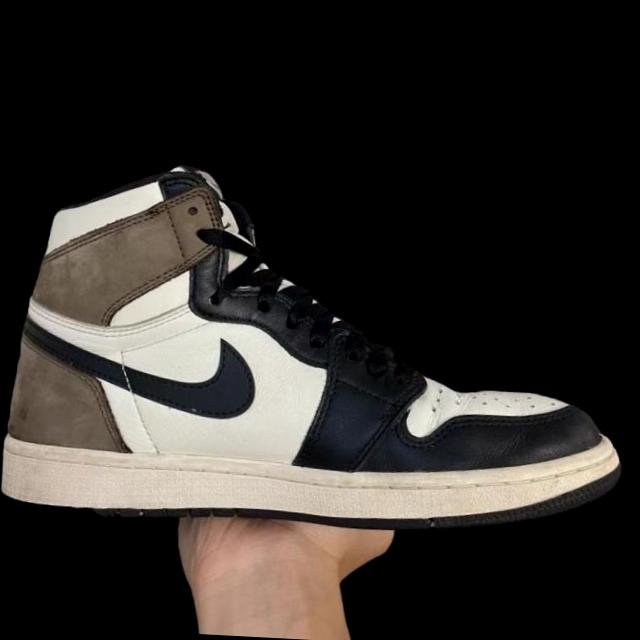nike_original_jordan: (0, 156, 636, 534)
